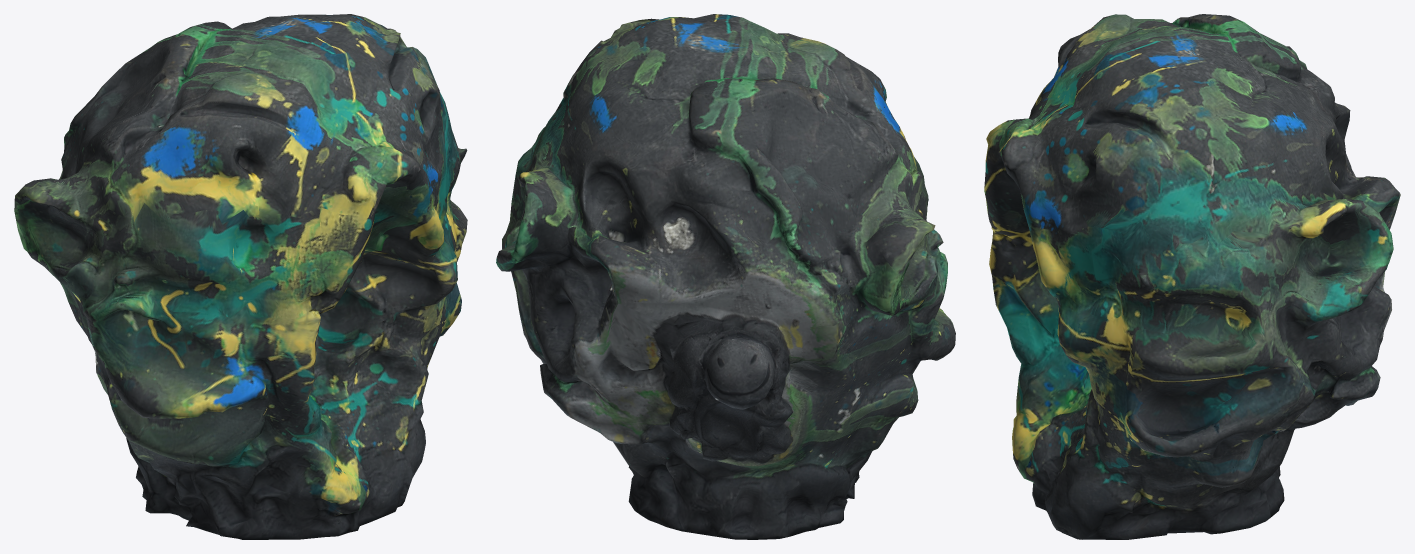
Rendered from 01_palette.glb.
3 views of the same model, side by side, from view 1: azimuth 30°, elevation 25°; view 2: azimuth 150°, elevation 25°; view 3: azimuth 270°, elevation 25° (orthographic). The views are drawn at different scales.
Visible parts, largest first — view 1: Group24324; view 2: Group24324; view 3: Group24324.
Part boxes in pixels (x1,y1,x2,y2): Group24324: (14, 14, 467, 539); Group24324: (496, 14, 955, 539); Group24324: (984, 14, 1400, 539).
Size of the model in its own units: 1.67 by 1.75 by 1.42.
1 material, 1 textured.
